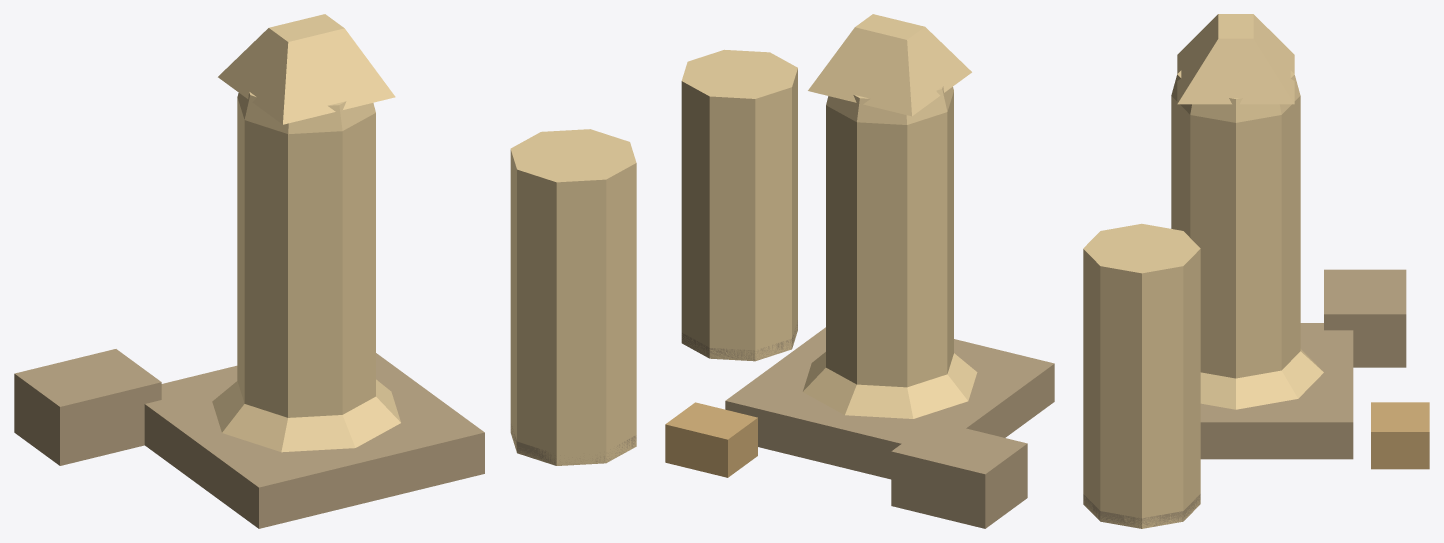
File: column_broken.fbx
3 views of the same model, side by side, from view 1: azimuth 30°, elevation 25°; view 2: azimuth 150°, elevation 25°; view 3: azimuth 270°, elevation 25° (orthographic). The views are drawn at different scales.
Parts seen in each view (by area): view 1: column_broken; view 2: column_broken; view 3: column_broken.
Part boxes in pixels (left/top/right/bottom): column_broken: left=14, top=14, right=636, bottom=528; column_broken: left=665, top=14, right=1054, bottom=528; column_broken: left=1083, top=14, right=1429, bottom=528.
Size of the model in its own units: 4.15 by 3.6 by 2.95.
Materials: 1 (1 with a texture image).
